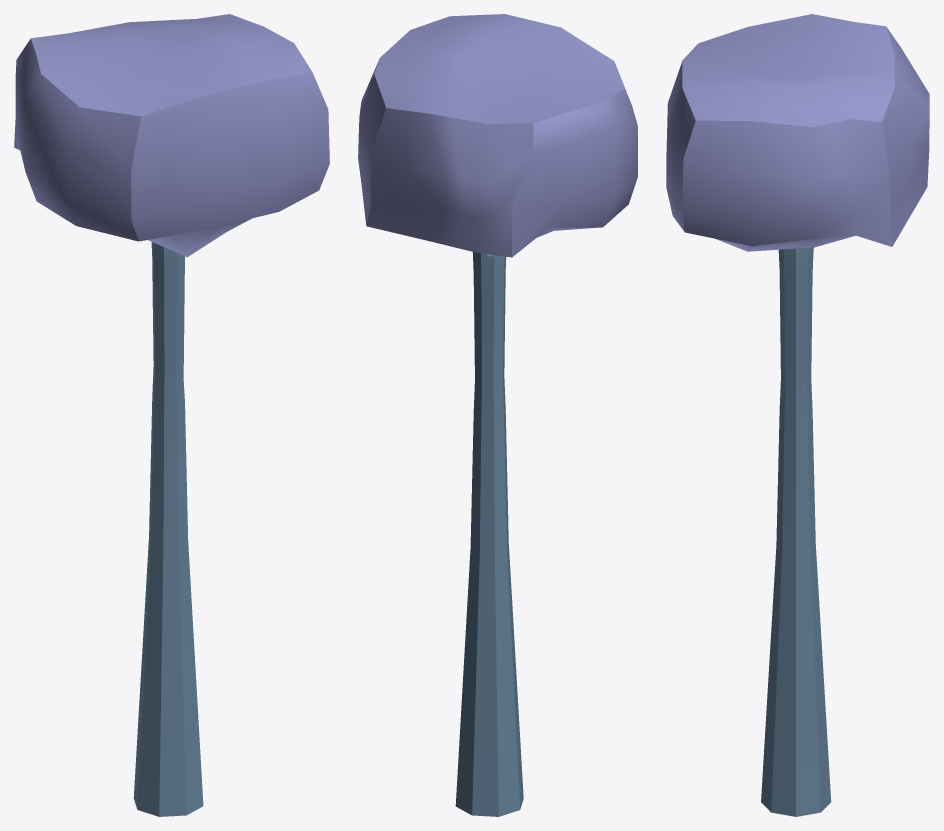
File: Night_one_top_tree.fbx
3 renders of one model, left to right at view 1: azimuth 30°, elevation 25°; view 2: azimuth 150°, elevation 25°; view 3: azimuth 270°, elevation 25°, orthographic. The views are drawn at different scales.
Parts seen in each view (by area): view 1: pasted__pCube1, pCylinder1; view 2: pasted__pCube1, pCylinder1; view 3: pasted__pCube1, pCylinder1.
Part boxes in pixels (box(x1,y1,x2,y2)): pasted__pCube1: box(14, 14, 329, 257); pCylinder1: box(133, 242, 203, 816); pasted__pCube1: box(358, 14, 637, 257); pCylinder1: box(455, 252, 523, 816); pasted__pCube1: box(666, 14, 929, 251); pCylinder1: box(761, 248, 831, 816).
Size of the model in its own units: 14.75 by 41.5 by 13.35.
